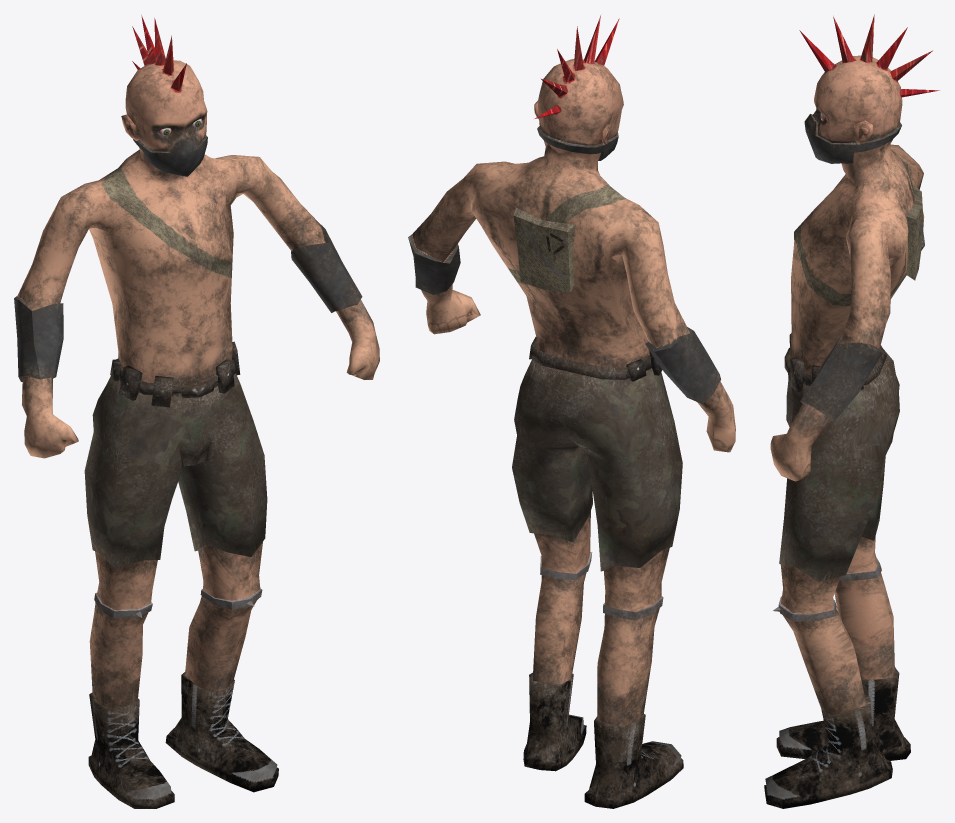
File: Anim_ganar_1_npc2.0014.obj
3 views of the same model, side by side, from view 1: azimuth 30°, elevation 25°; view 2: azimuth 150°, elevation 25°; view 3: azimuth 270°, elevation 25° (orthographic).
Visible parts, largest first — view 1: polySurface1; view 2: polySurface1; view 3: polySurface1.
Part boxes in pixels (bbox=[...]): polySurface1: bbox=[14, 15, 379, 808]; polySurface1: bbox=[408, 15, 735, 808]; polySurface1: bbox=[764, 14, 939, 808].
Size of the model in its own units: 4.65 by 10.11 by 2.14.
Materials: 2 (2 with a texture image).
